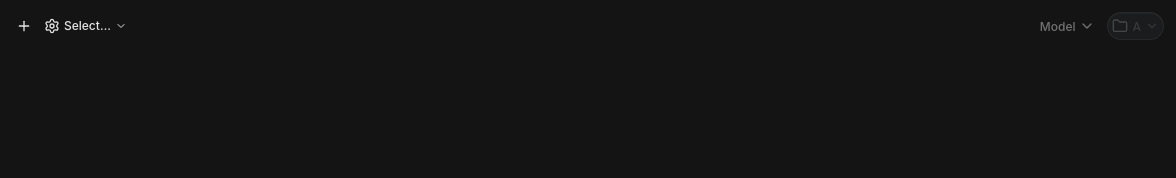
Scenario: keeps Add open when a sibling Chat disables only project switching
The image size is (1176, 178).
Step 1. Click the button named "Composer options" → (24, 26), box [12,12,36,40]
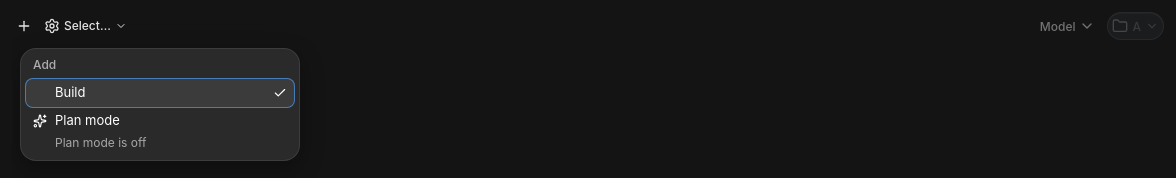
Expected: the button named "Project: A" is disabled, [1108,12,1164,40]
Expected: the menu named "Composer options menu" is shown, [20,48,300,160]
